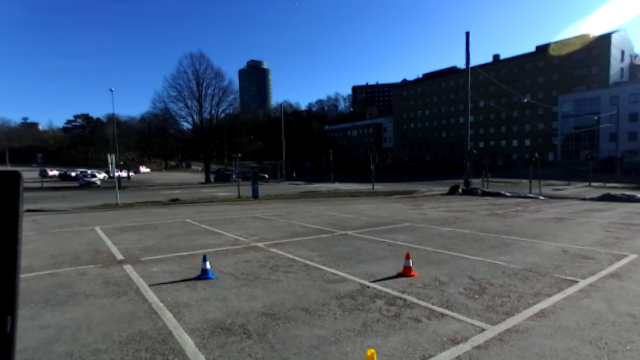blue: (194, 254, 218, 282)
orange: (397, 251, 419, 279)
